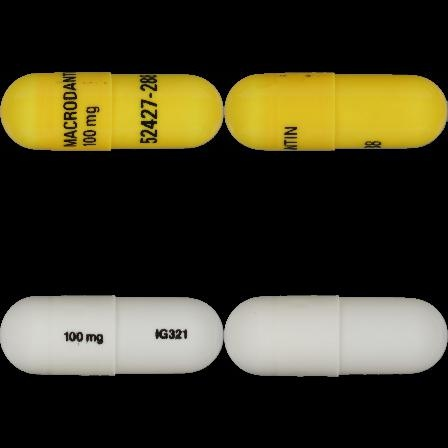63187-245: (0, 0, 224, 224)
